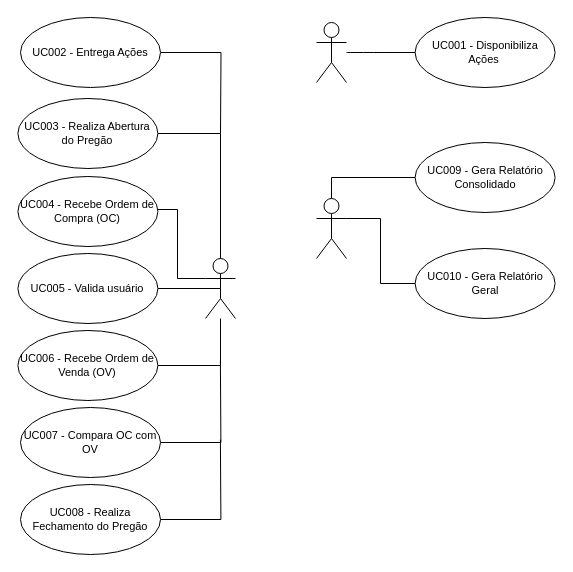
The diagram is 573 pixels wide and 572 high, and some of its shapes have lost their labels. Here are the shapes that lost their labels. From the top down, the box of each, then its label:
(316, 22, 346, 82): Empresa
(316, 198, 346, 258): Administrador
(204, 258, 236, 318): Market
